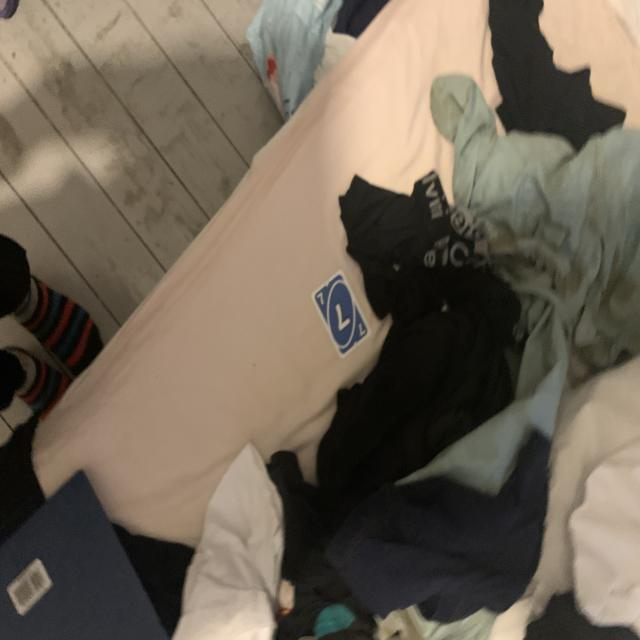lblue-7: (316, 290, 326, 308)
